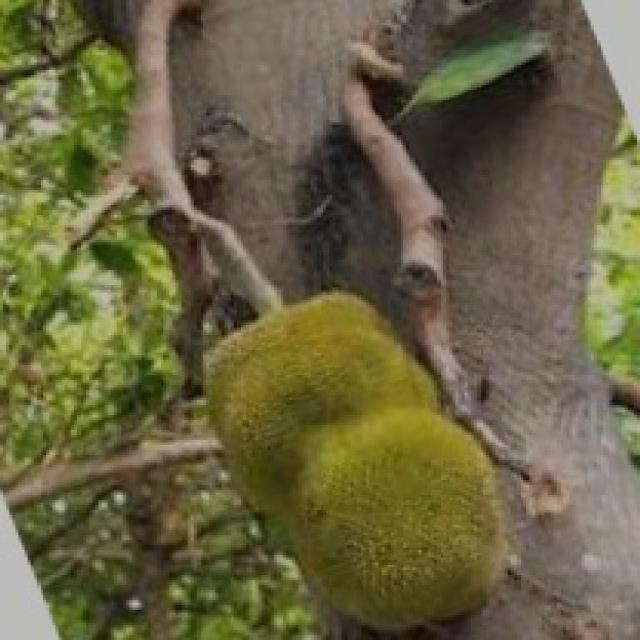Fruit: (172, 252, 545, 640)
